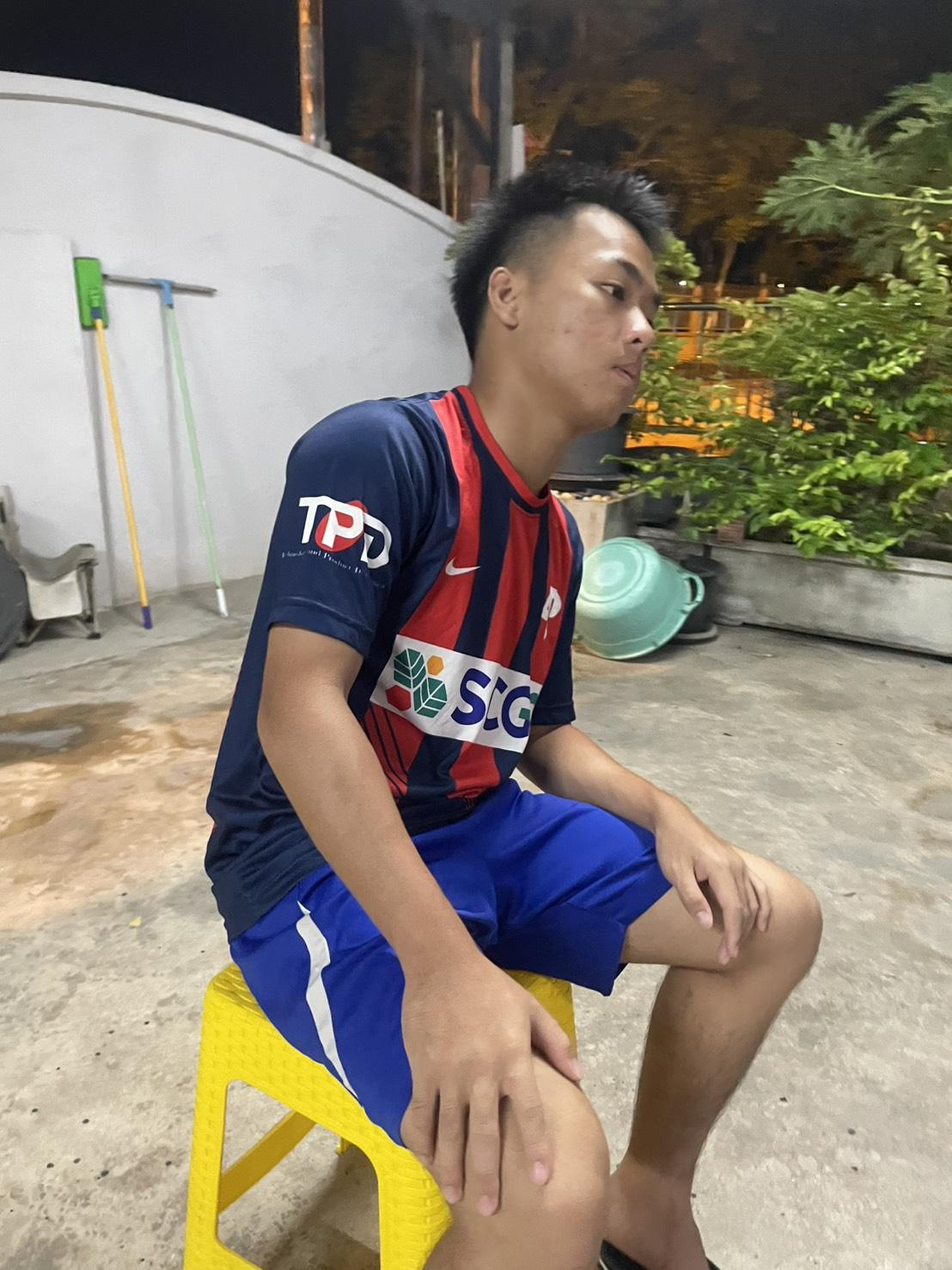BadPosture: (205, 162, 668, 913)
